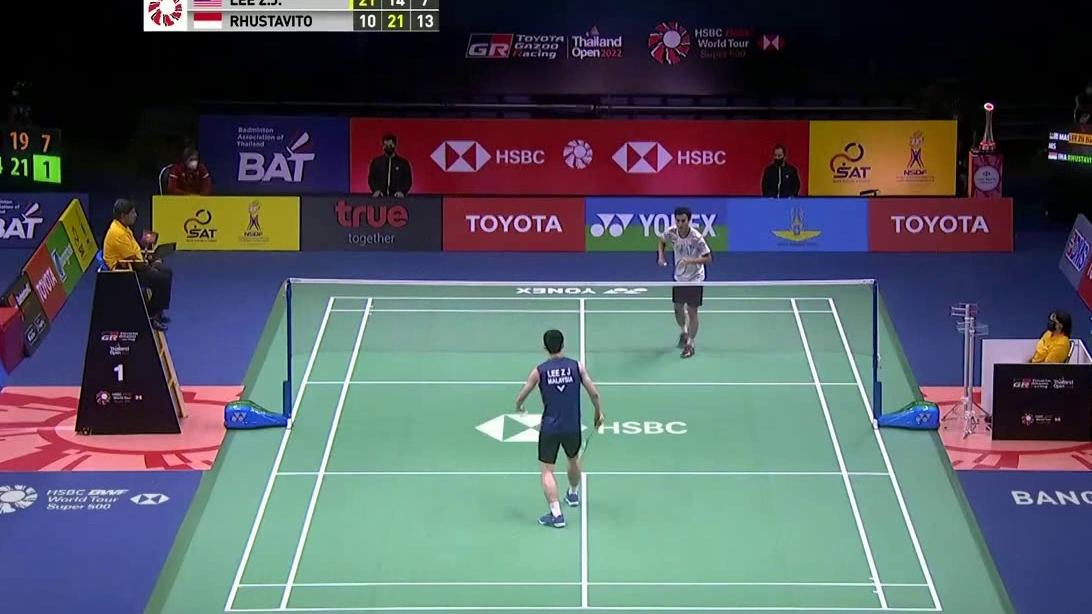racket: (578, 422, 603, 459), (661, 259, 687, 277)
shuttle: (517, 406, 529, 421)
